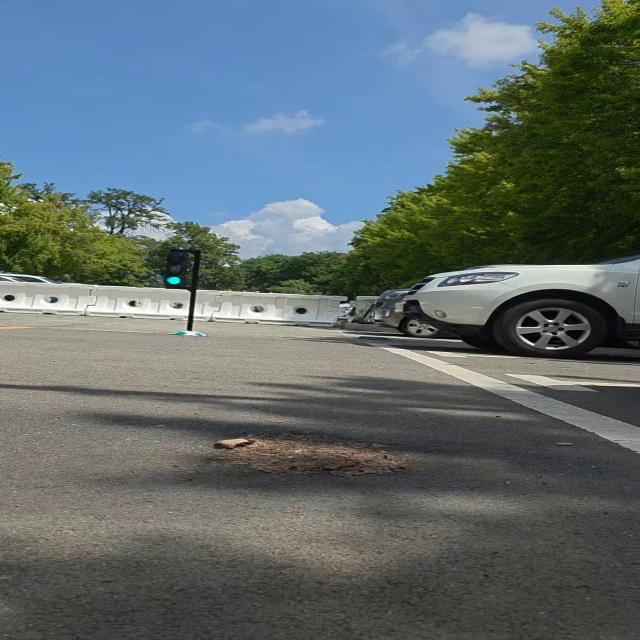green: (160, 248, 196, 290)
